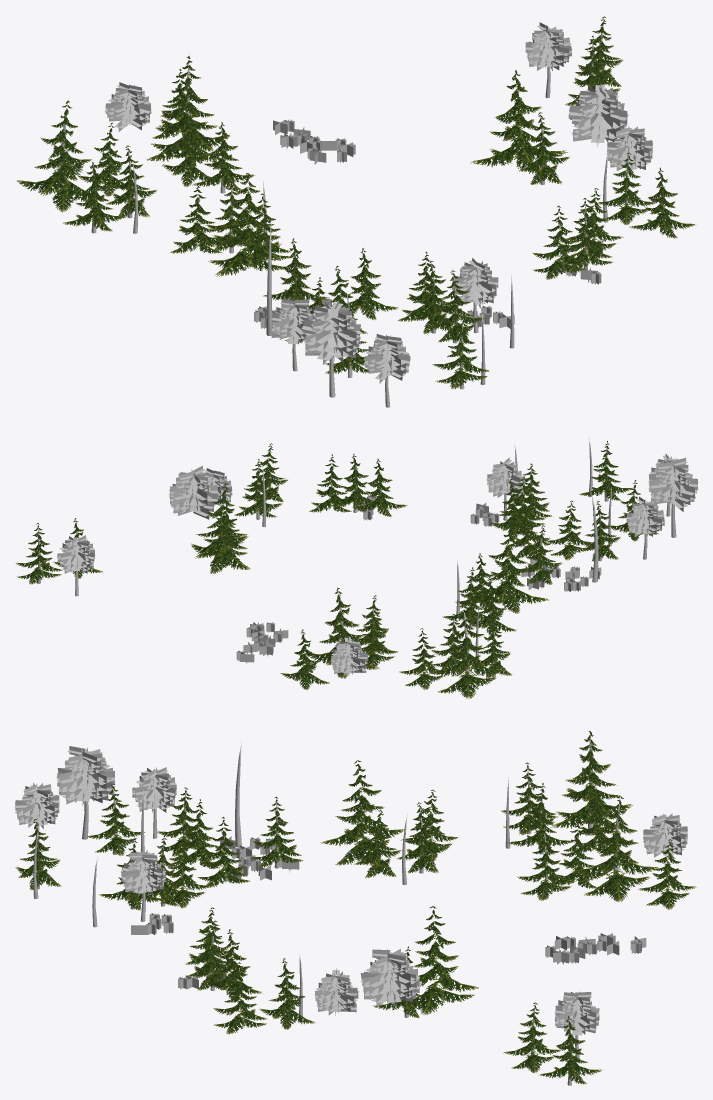
File: trees2.obj
3 views of the same model, one above another, from view 1: azimuth 30°, elevation 25°; view 2: azimuth 150°, elevation 25°; view 3: azimuth 270°, elevation 25° (orthographic). The views are drawn at different scales.
Visible parts, largest first — view 1: Green_elka.098_Plane.001, Green_sosna.024_Plane.001, Green_elka.064_Plane.001, Green_sosna.007_Plane.001, Green_elka.004_Plane.001, Green_elka.072_Plane.001, Green_sosna.009_Plane.001, Green_sosna.025_Plane.001, Green_sosna.014_Plane.001, Green_sosna.006_Plane.001, Green_sosna.020_Plane.001, Green_sosna.022_Plane.001 (+23 smaller); view 2: Green_elka.064_Plane.001, Green_elka.004_Plane.001, Green_sosna.024_Plane.001, Green_sosna.007_Plane.001, Green_elka.098_Plane.001, Green_elka.072_Plane.001, Green_sosna.009_Plane.001, Green_sosna.022_Plane.001, Green_sosna.014_Plane.001, Green_sosna.020_Plane.001, Green_elka.025_Plane.001, Green_elka.077_Plane.001 (+23 smaller); view 3: Green_elka.072_Plane.001, Green_sosna.024_Plane.001, Green_sosna.007_Plane.001, Green_elka.004_Plane.001, Green_elka.098_Plane.001, Green_elka.064_Plane.001, Green_sosna.009_Plane.001, Green_sosna.025_Plane.001, Green_sosna.020_Plane.001, Green_sosna.022_Plane.001, Green_sosna.014_Plane.001, Green_sosna.006_Plane.001 (+25 smaller).
Boxes of the visible parts, <box> form: Green_elka.098_Plane.001: <box>208,173,283,276</box>; Green_sosna.024_Plane.001: <box>301,299,361,364</box>; Green_elka.064_Plane.001: <box>17,100,103,212</box>; Green_sosna.007_Plane.001: <box>568,82,628,146</box>; Green_elka.004_Plane.001: <box>470,70,567,174</box>; Green_elka.072_Plane.001: <box>146,56,229,161</box>; Green_sosna.009_Plane.001: <box>525,22,572,70</box>; Green_sosna.025_Plane.001: <box>364,334,410,383</box>; Green_sosna.014_Plane.001: <box>105,82,151,131</box>; Green_sosna.006_Plane.001: <box>606,125,653,170</box>; Green_sosna.020_Plane.001: <box>451,258,498,308</box>; Green_sosna.022_Plane.001: <box>271,299,312,347</box>; Green_elka.064_Plane.001: <box>429,606,504,698</box>; Green_elka.004_Plane.001: <box>191,483,250,573</box>; Green_sosna.024_Plane.001: <box>648,457,698,511</box>; Green_sosna.007_Plane.001: <box>169,465,218,519</box>; Green_elka.098_Plane.001: <box>466,521,548,613</box>; Green_elka.072_Plane.001: <box>305,588,379,678</box>; Green_sosna.009_Plane.001: <box>57,535,95,573</box>; Green_sosna.022_Plane.001: <box>626,496,664,536</box>; Green_sosna.014_Plane.001: <box>331,635,368,676</box>; Green_sosna.020_Plane.001: <box>486,457,524,497</box>; Green_elka.025_Plane.001: <box>16,523,62,584</box>; Green_elka.077_Plane.001: <box>545,500,592,560</box>; Green_elka.072_Plane.001: <box>572,796,658,902</box>; Green_sosna.024_Plane.001: <box>56,746,115,805</box>; Green_sosna.007_Plane.001: <box>360,948,420,1007</box>; Green_elka.004_Plane.001: <box>413,906,478,1014</box>; Green_elka.098_Plane.001: <box>321,760,404,867</box>; Green_elka.064_Plane.001: <box>551,731,633,829</box>; Green_sosna.009_Plane.001: <box>554,992,599,1035</box>; Green_sosna.025_Plane.001: <box>14,783,59,828</box>; Green_sosna.020_Plane.001: <box>120,850,166,896</box>; Green_sosna.022_Plane.001: <box>132,767,177,812</box>; Green_sosna.014_Plane.001: <box>643,813,687,858</box>; Green_sosna.006_Plane.001: <box>314,968,359,1015</box>.
Bounding box in the file's own units: 40.02 × 7.18 × 41.21.
